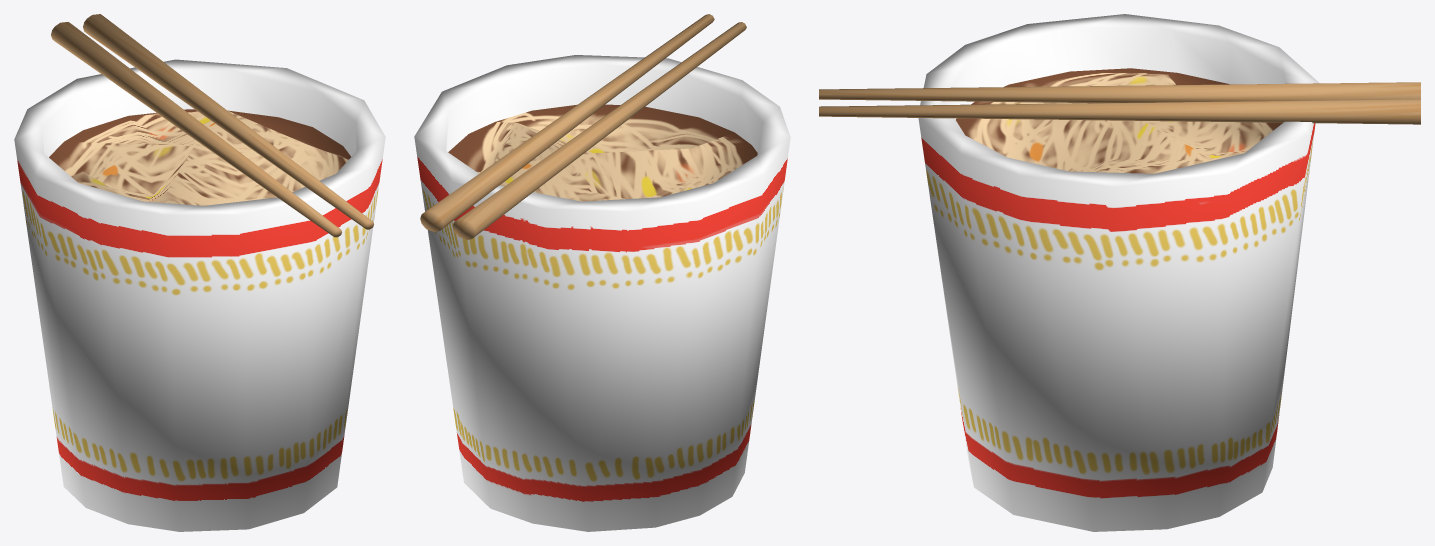
File: noodles.gltf
3 views of the same model, side by side, from view 1: azimuth 30°, elevation 25°; view 2: azimuth 150°, elevation 25°; view 3: azimuth 270°, elevation 25° (orthographic). The views are drawn at different scales.
Parts seen in each view (by area): view 1: Cylinder.002; view 2: Cylinder.002; view 3: Cylinder.002.
Part boxes in pixels (x1,y1,x2,y2): Cylinder.002: (14,14,385,531); Cylinder.002: (414,14,790,531); Cylinder.002: (819,14,1420,531).
Size of the model in its own units: 1.01 by 1.05 by 1.49.
Materials: 1 (1 with a texture image).
